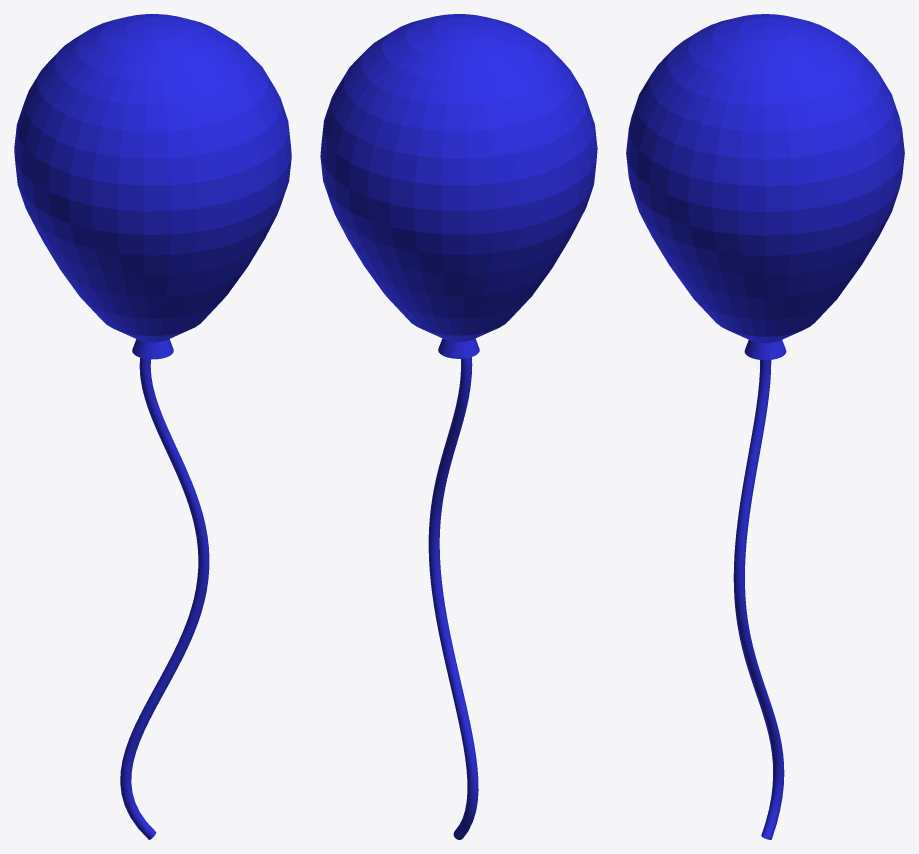
Rendered from BalloonModelBlue.gltf.
3 views of the same model, side by side, from view 1: azimuth 30°, elevation 25°; view 2: azimuth 150°, elevation 25°; view 3: azimuth 270°, elevation 25° (orthographic).
Visible parts, largest first — view 1: BalloonObject; view 2: BalloonObject; view 3: BalloonObject.
Boxes of the visible parts, x1,y1,x2,y2 form: BalloonObject: (14,14,291,839); BalloonObject: (320,14,597,839); BalloonObject: (626,14,904,839).
Size of the model in its own units: 2 by 6.45 by 2.
